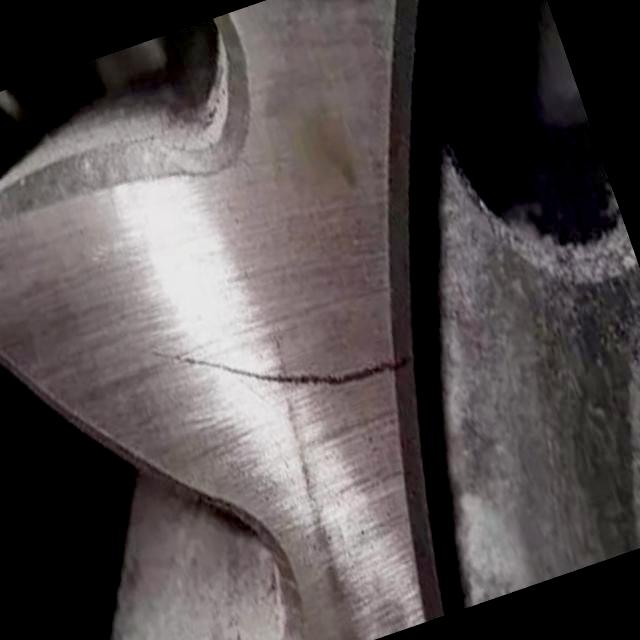defect: (140, 344, 415, 398)
